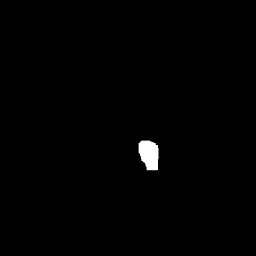mass: (139, 142, 160, 171)
